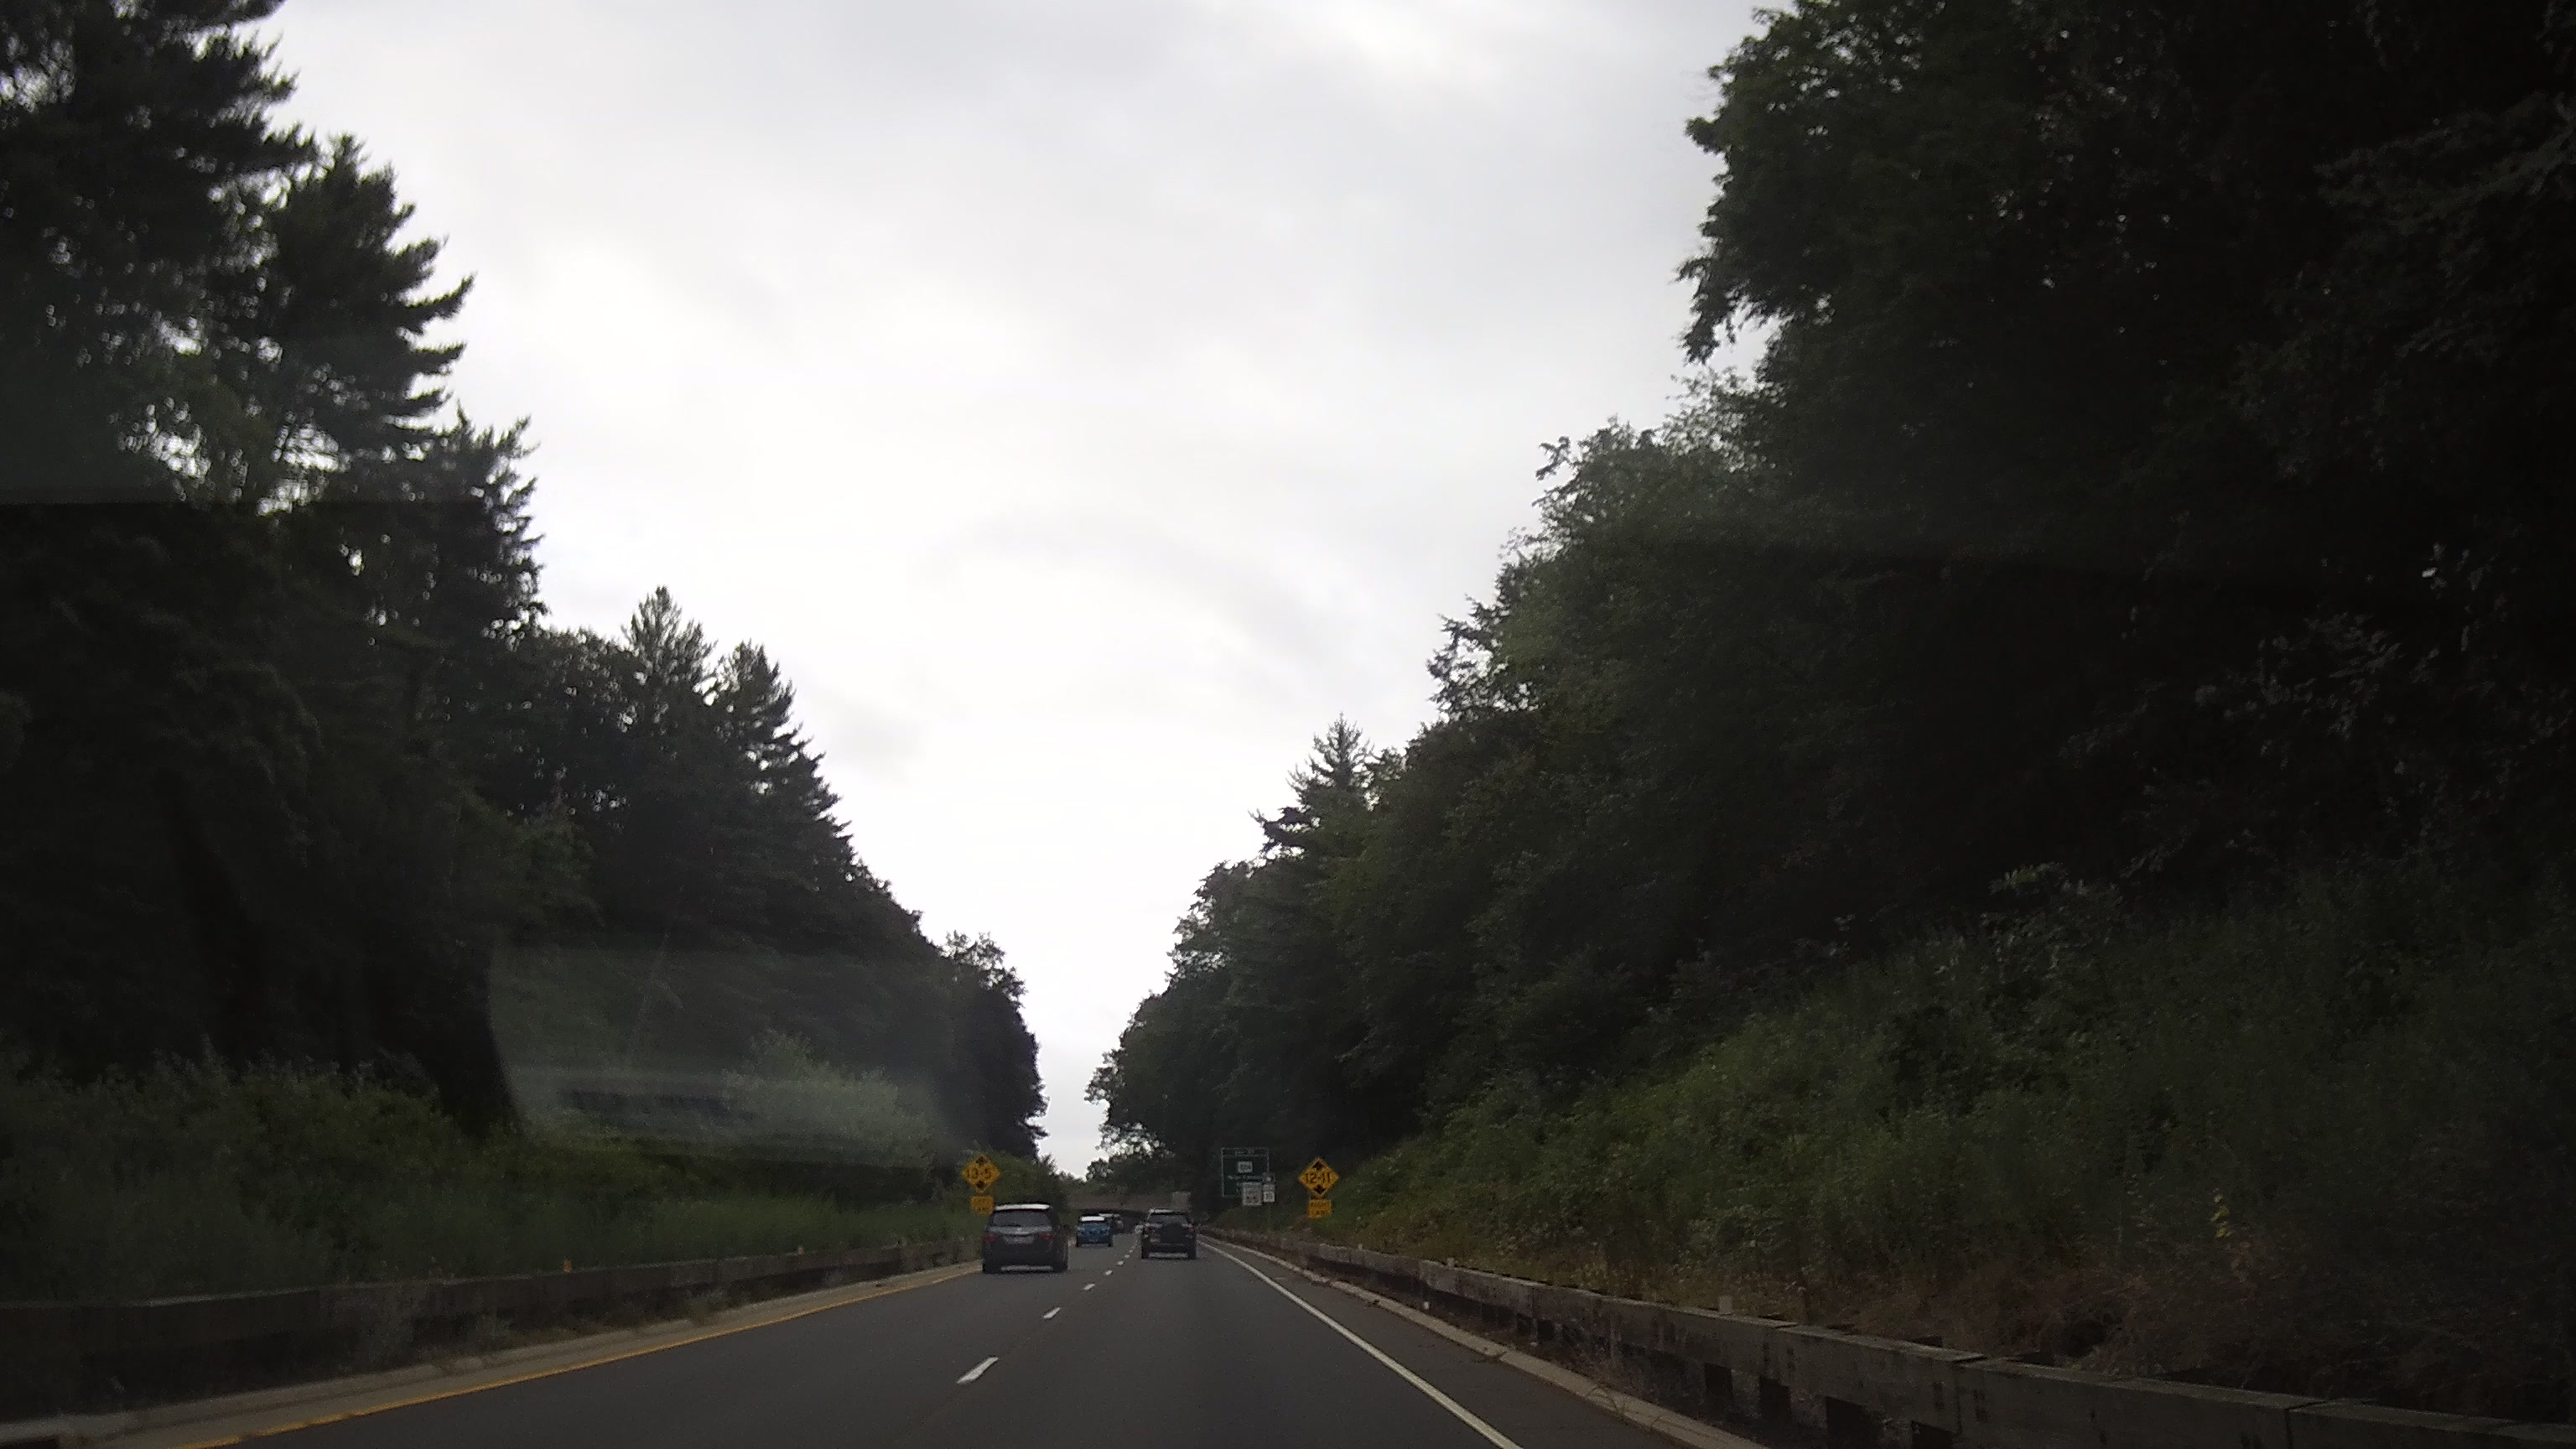low-clearance-sign: (1295, 1155, 1341, 1200), (959, 1152, 1001, 1196)
